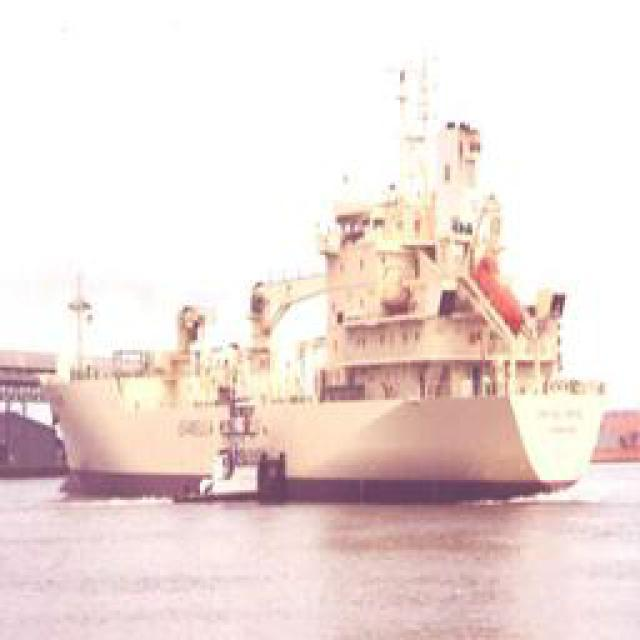Ship: (48, 369, 286, 504)
